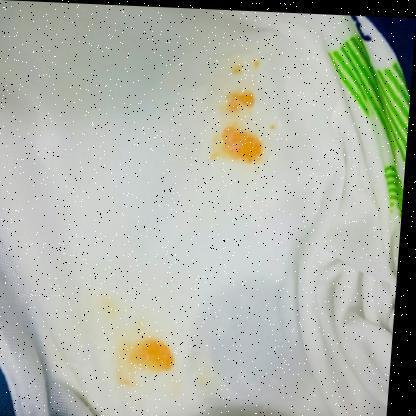kimchi: (112, 341, 174, 389), (209, 123, 266, 170), (100, 295, 141, 331), (217, 87, 262, 117), (225, 57, 266, 77), (269, 121, 280, 134)
